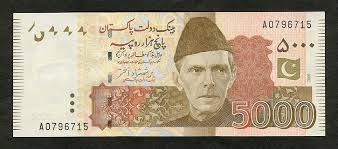5000 rupee: (11, 10, 329, 135)
